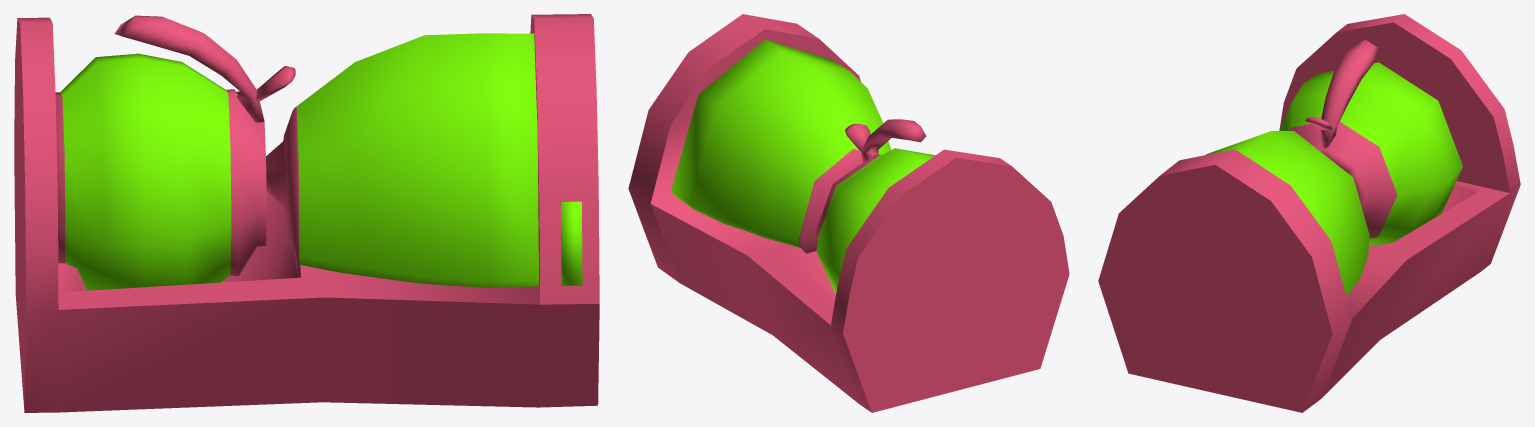
File: ToyObject_078.fbx
The picture shows the model from 3 angles, left to right: view 1: azimuth 30°, elevation 25°; view 2: azimuth 150°, elevation 25°; view 3: azimuth 270°, elevation 25°; orthographic projection. The views are drawn at different scales.
Parts seen in each view (by area): view 1: 1.022; view 2: 1.022; view 3: 1.022.
Part boxes in pixels (box(x1,y1,x2,y2)): 1.022: box(14, 14, 599, 412); 1.022: box(628, 14, 1069, 412); 1.022: box(1098, 14, 1520, 412).
Size of the model in its own units: 0.2063 by 0.1121 by 0.1824.
